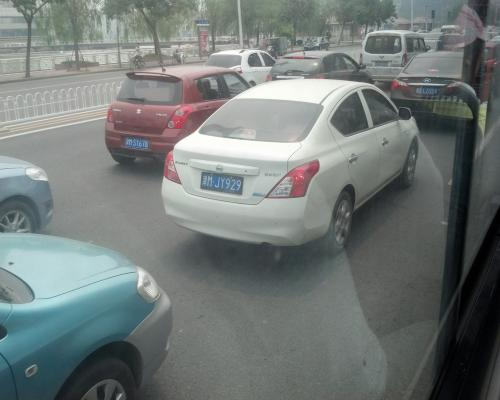Carplate: (198, 168, 246, 197)
